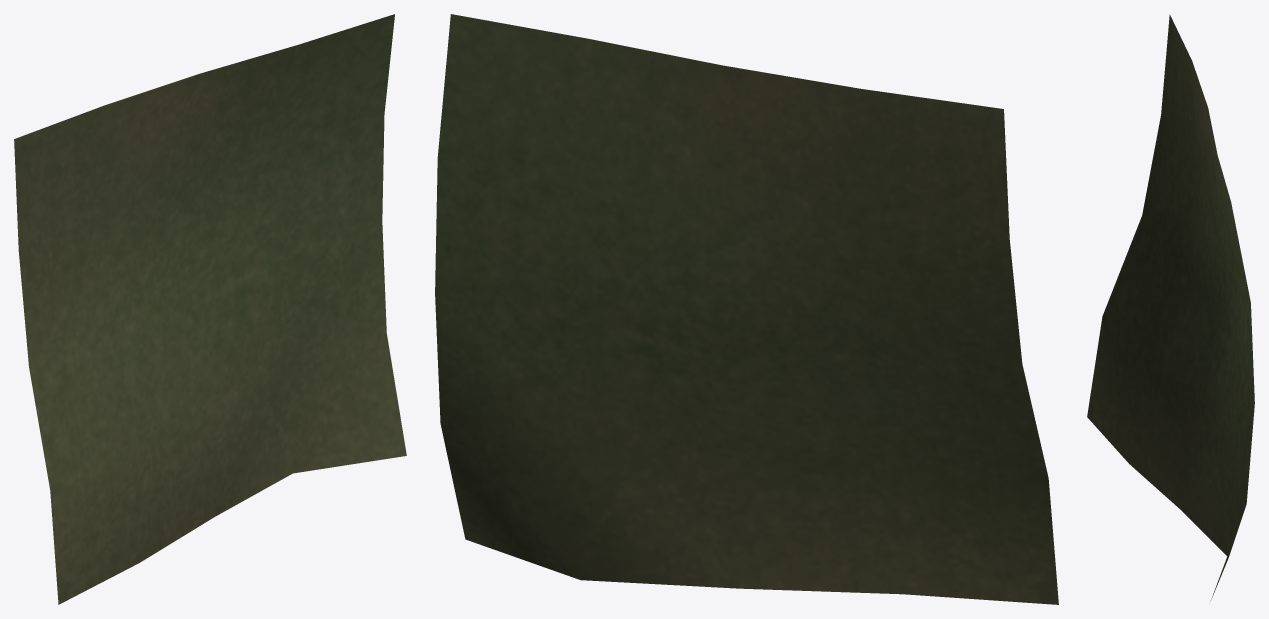
The model's file is terrain_far_04_04.obj.
3 renders of one model, left to right at view 1: azimuth 30°, elevation 25°; view 2: azimuth 150°, elevation 25°; view 3: azimuth 270°, elevation 25°, orthographic. The views are drawn at different scales.
Parts seen in each view (by area): view 1: terrain_far_04_04; view 2: terrain_far_04_04; view 3: terrain_far_04_04.
Boxes of the visible parts, x1=… form: terrain_far_04_04: x1=14, y1=14, x2=406, y2=604; terrain_far_04_04: x1=435, y1=14, x2=1058, y2=604; terrain_far_04_04: x1=1087, y1=14, x2=1254, y2=601.
Bounding box in the file's own units: 288 × 288 × 109.
Materials: 1 (1 with a texture image).
